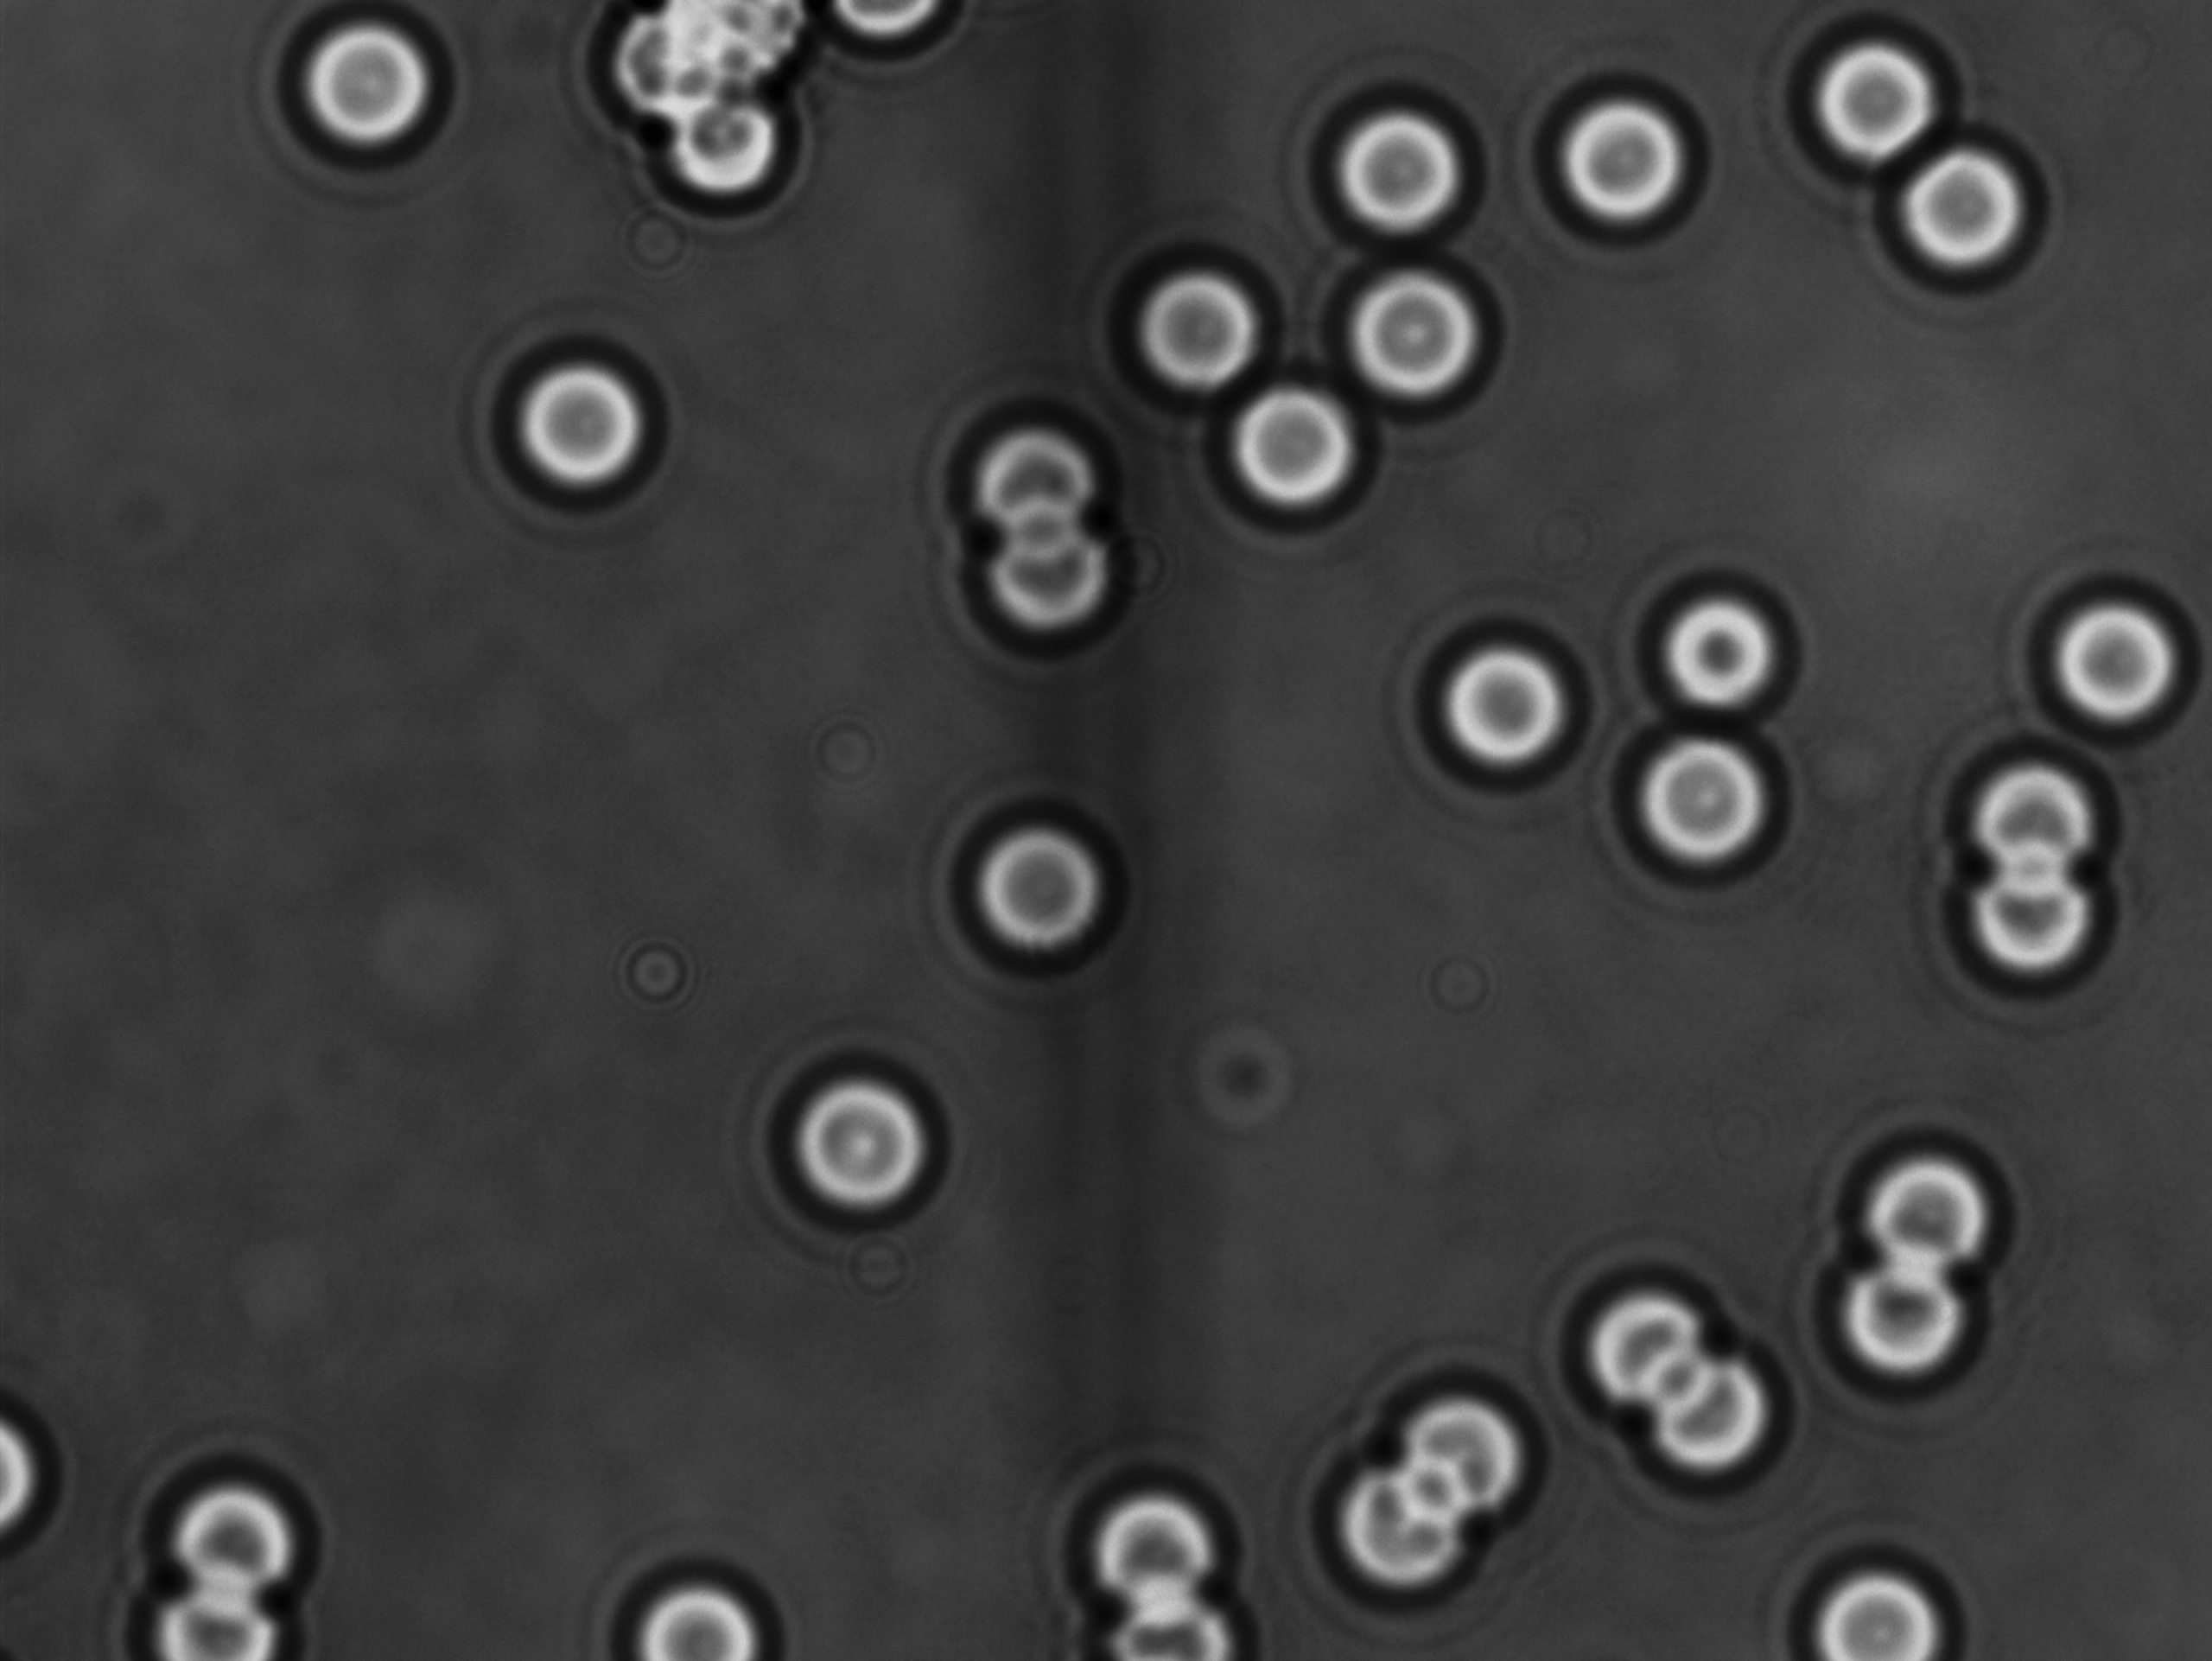depth:60: (918, 782, 1132, 988), (1799, 1096, 2025, 1288), (748, 1031, 942, 1246), (1328, 229, 1535, 426), (1615, 532, 1826, 726), (1605, 686, 1807, 886), (1403, 609, 1601, 811), (1298, 52, 1504, 244), (1919, 841, 2144, 1015), (2015, 551, 2212, 748), (476, 333, 686, 518), (1519, 61, 1729, 244), (1191, 365, 1392, 551), (930, 482, 1132, 665), (1863, 117, 2069, 291), (1104, 234, 1301, 415), (1936, 726, 2133, 904), (940, 389, 1129, 558), (1818, 1225, 1990, 1399), (1778, 1525, 1970, 1661), (619, 1542, 797, 1661)
